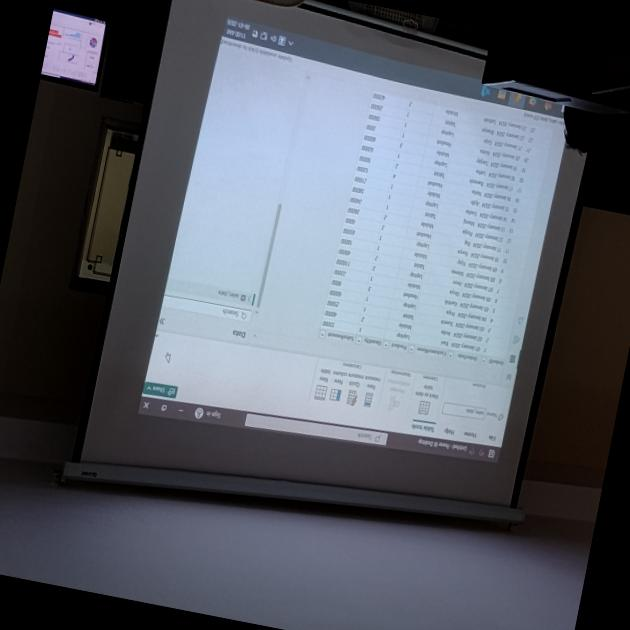projector: (70, 0, 630, 557)
